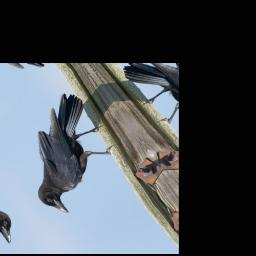Crow: (0, 88, 138, 220)
